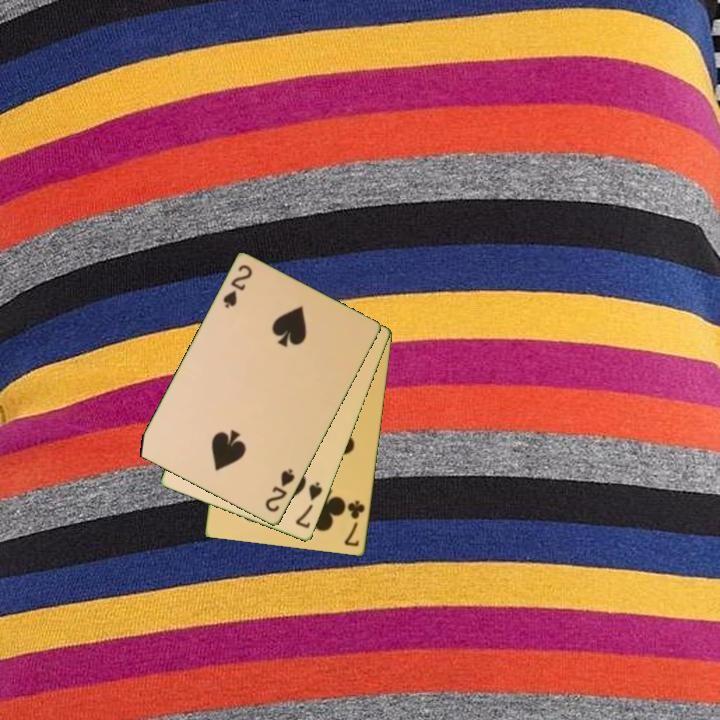2s: (219, 261, 255, 312), (262, 465, 298, 515)
7c: (341, 497, 368, 549)
7s: (292, 479, 326, 532)
